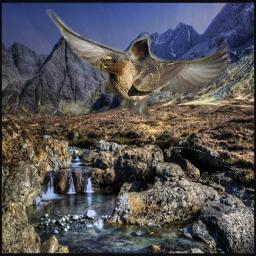Crow: (175, 147, 237, 183)
Swallow: (46, 9, 232, 121), (96, 52, 191, 103)
